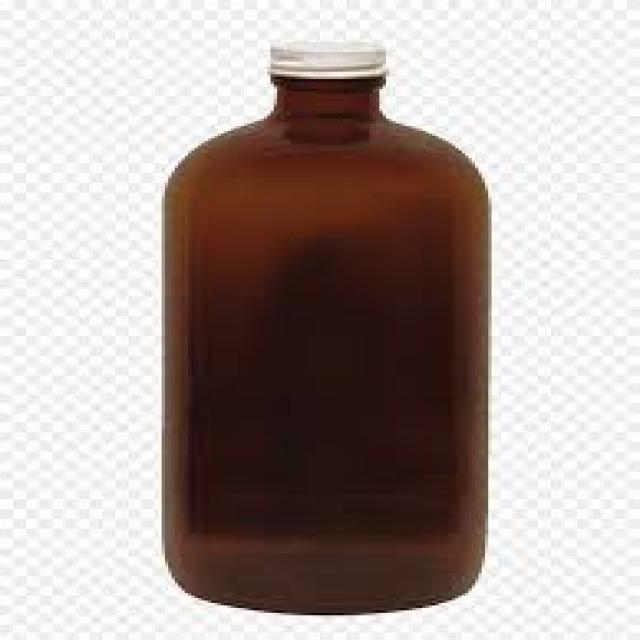glass: (158, 72, 485, 610)
metal: (264, 40, 383, 74)
